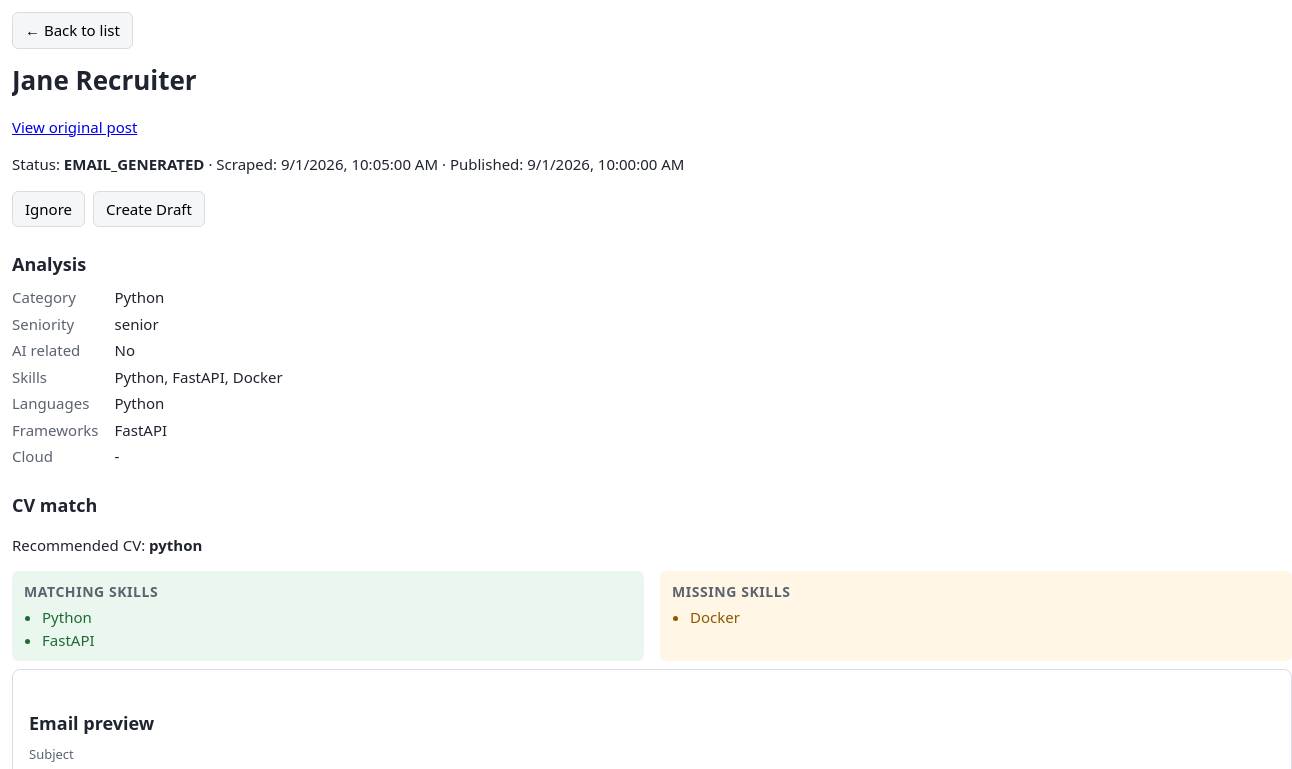
JobDetail › shows the API error via ErrorBanner when create-draft fails (e.g. 409/502)
Expected: the heading "Jane Recruiter" is shown, [12,62,197,98]
Click the button "Create Draft" at (149, 209), box [93,190,205,227]
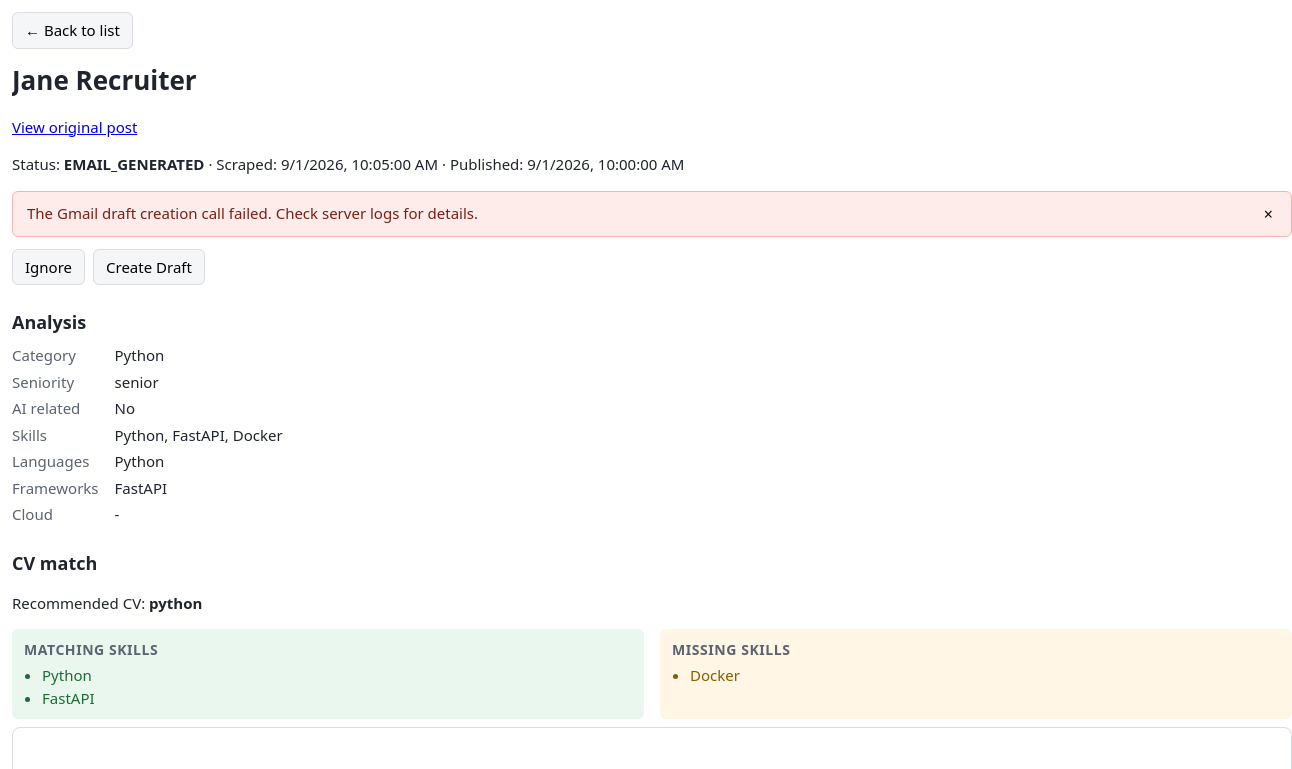
Expected: the message shows "The Gmail draft creation call failed. Check server logs for details.", [27,203,478,223]
